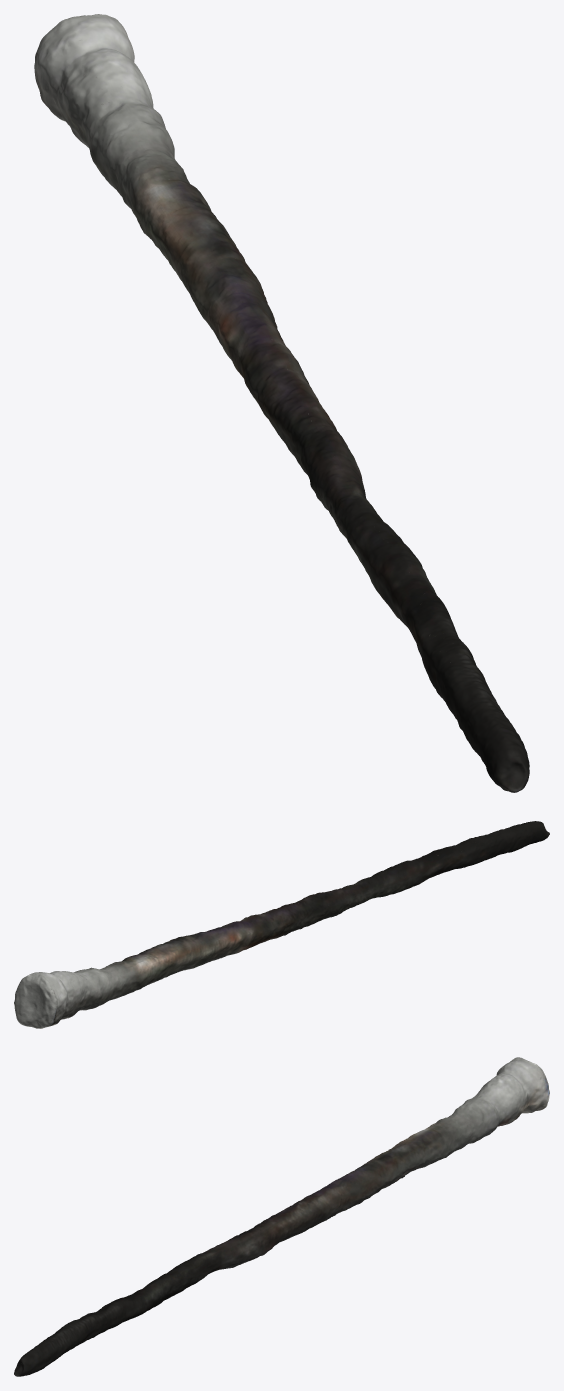
3 views of the same model, one above another, from view 1: azimuth 30°, elevation 25°; view 2: azimuth 150°, elevation 25°; view 3: azimuth 330°, elevation 25° (orthographic). The views are drawn at different scales.
Parts seen in each view (by area): view 1: Node; view 2: Node; view 3: Node.
Part boxes in pixels (x1,y1,x2,y2): Node: [34, 14, 529, 792]; Node: [14, 821, 549, 1028]; Node: [14, 1057, 549, 1376].
Bounding box in the file's own units: 28.73 × 14.29 × 105.
1 material, 1 textured.
